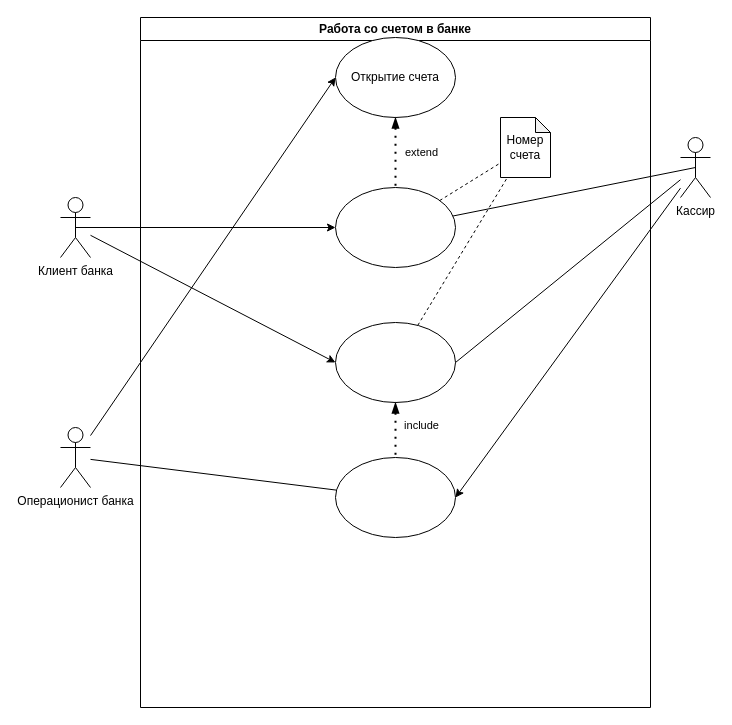
Image size: 732x725. Some labels were removed from this diagram. Each missing label, with the box of its shape:
Закрытие счета: (334, 456, 456, 538)
Пополнение счета: (334, 186, 456, 268)
Снятие средств со счета: (334, 322, 456, 402)
